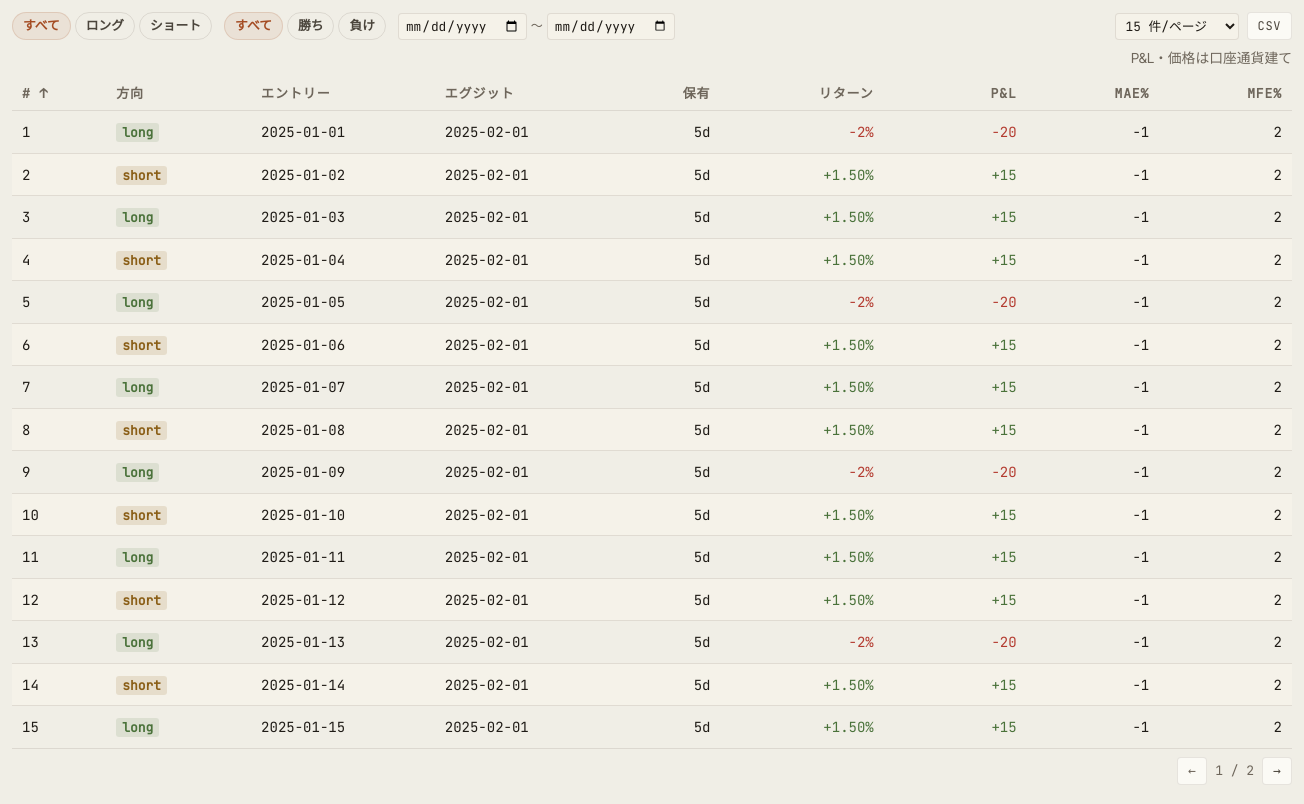
it: TradeTable filters & paging (issue #371) › ページサイズを変更でき、ページャに aria-label がある
The image size is (1304, 804).
Expected: the button named "前のページ" is shown, x1=1177 y1=757 x2=1207 y2=785
Expected: the button named "次のページ" is shown, x1=1262 y1=757 x2=1292 y2=785
Select "50 件/ページ" in the dropdown named "ページサイズ" at {"x": 1177, "y": 26}, box x1=1115 y1=12 x2=1239 y2=40
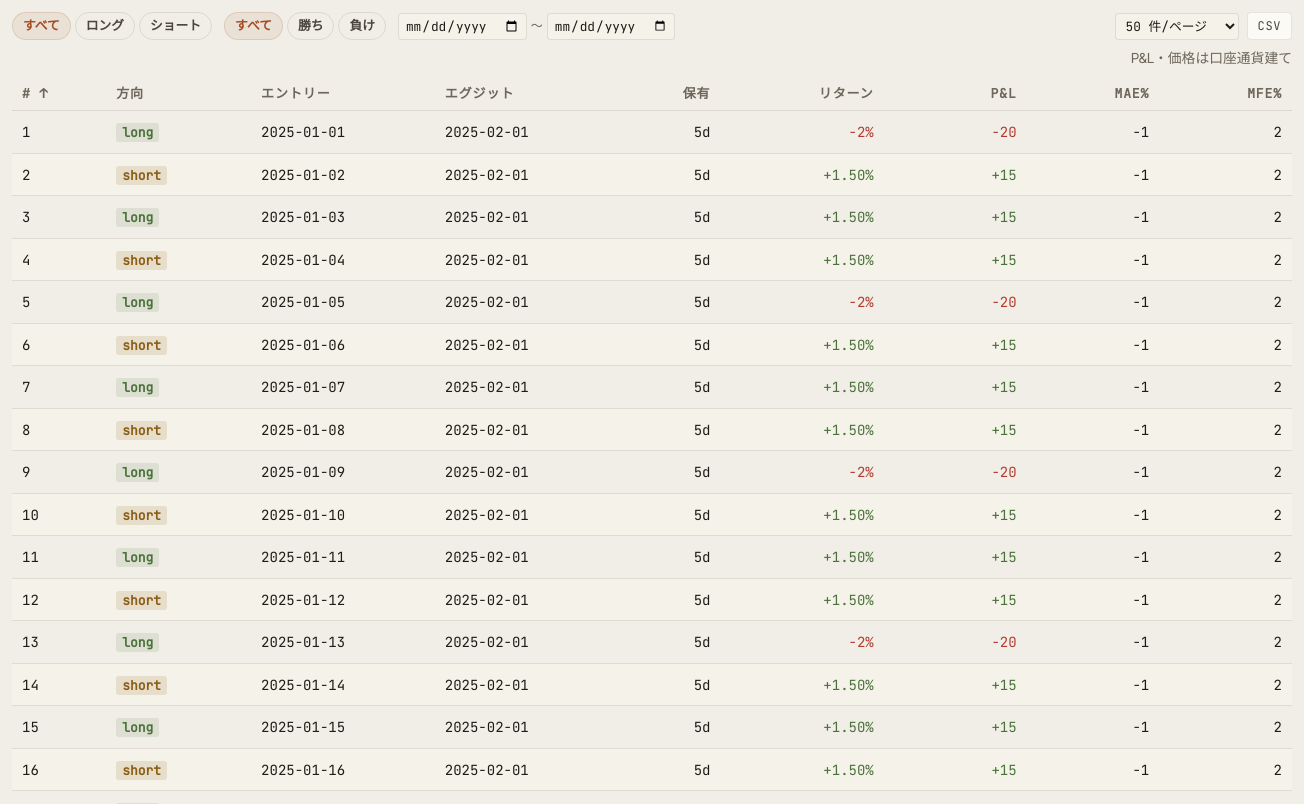
Result: the button "次のページ" is gone
